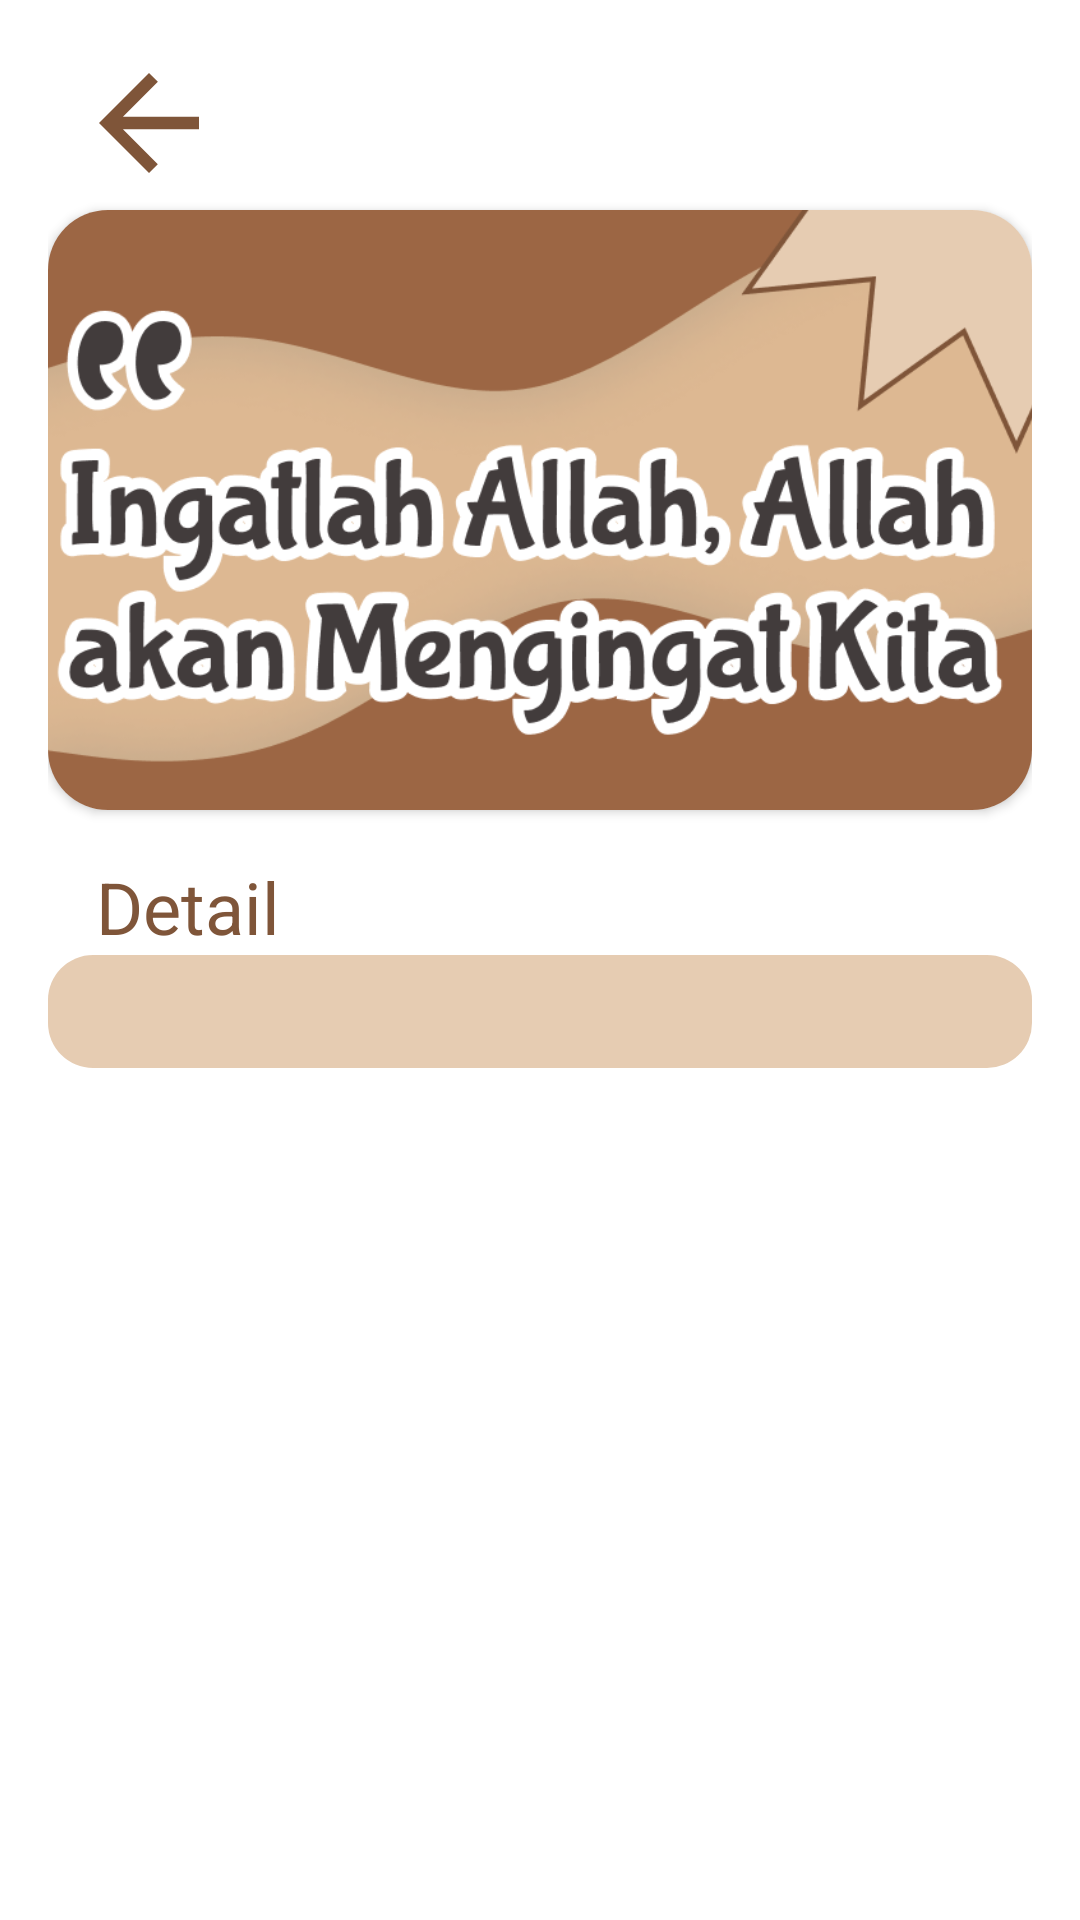

Icon bounding boxes for this 1080 x 1920 phone screenshot, format box=[x1, y1, x2, y2]:
arrow back brownie: box=[99, 73, 199, 173]
